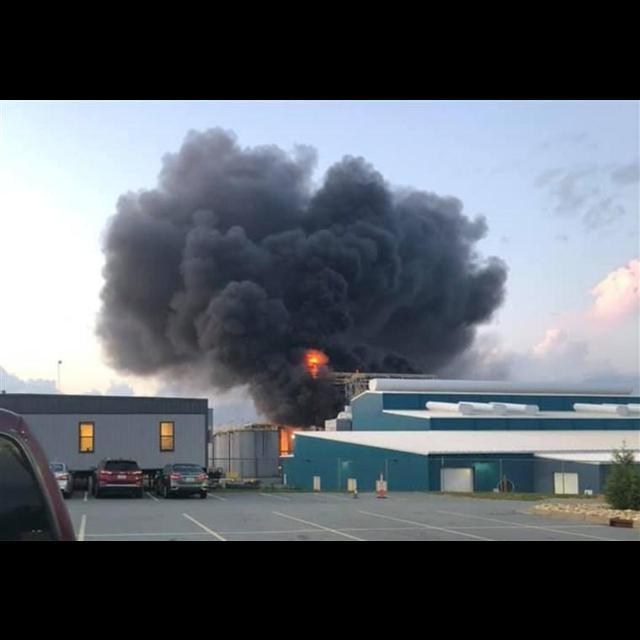Fire: (304, 350, 326, 378), (279, 426, 291, 454)
Smoke: (92, 124, 510, 428)
